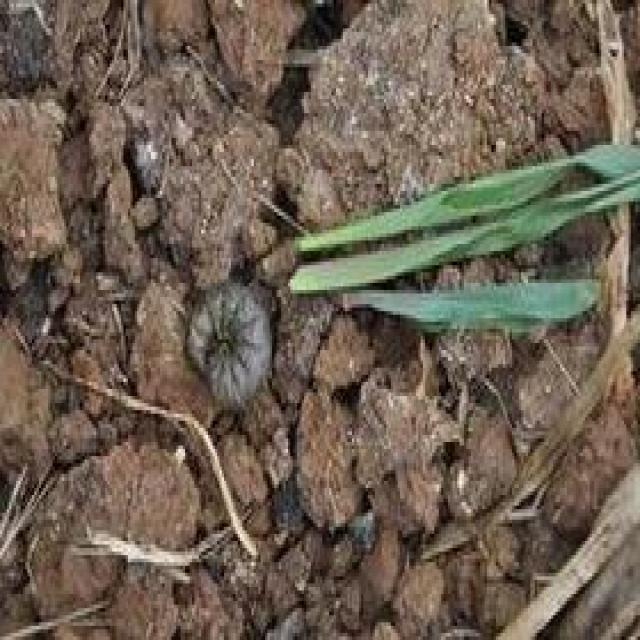armyworm: (190, 275, 274, 415)
